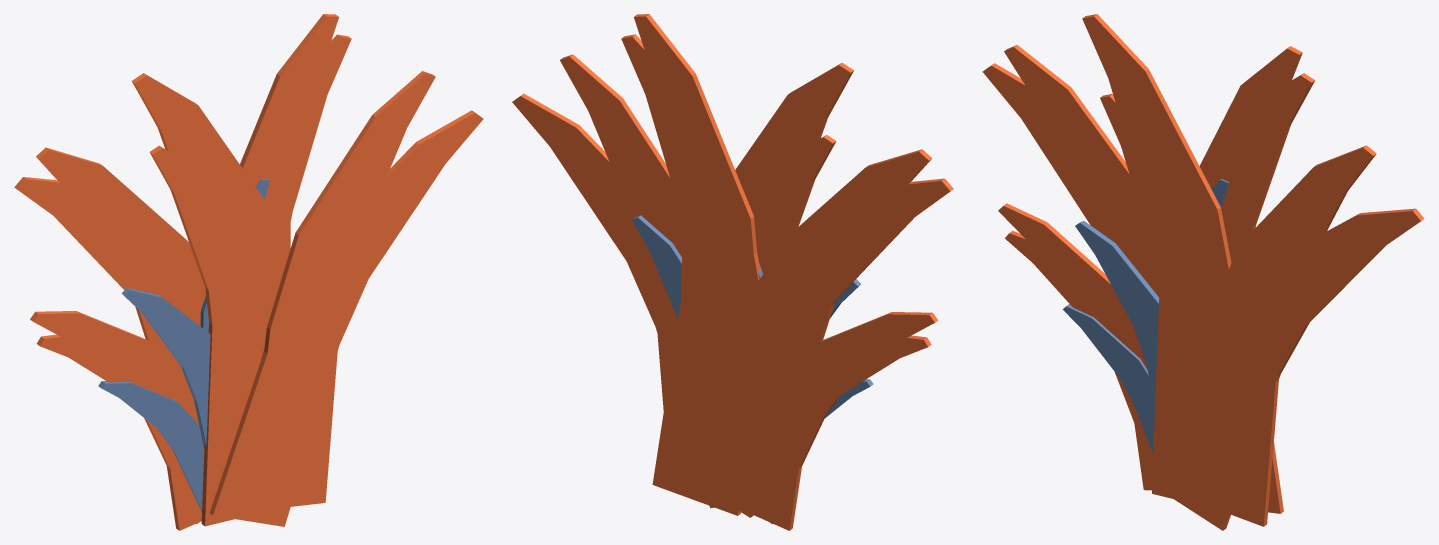
Rendered from grass_001.fbx.
3 views of the same model, side by side, from view 1: azimuth 30°, elevation 25°; view 2: azimuth 150°, elevation 25°; view 3: azimuth 330°, elevation 25° (orthographic).
Visible parts, largest first — view 1: Plane, Plane.001, Plane.002; view 2: Plane, Plane.001, Plane.002; view 3: Plane, Plane.001, Plane.002.
Boxes of the visible parts, left/top/right/bottom form: Plane: left=30, top=14, right=435, bottom=530; Plane.001: left=14, top=34, right=483, bottom=526; Plane.002: left=98, top=179, right=269, bottom=511; Plane: left=560, top=14, right=938, bottom=530; Plane.001: left=512, top=34, right=953, bottom=517; Plane.002: left=631, top=215, right=873, bottom=419; Plane: left=998, top=14, right=1376, bottom=526; Plane.001: left=982, top=63, right=1424, bottom=530; Plane.002: left=1063, top=179, right=1229, bottom=453.
Bounding box in the file's own units: 222 × 229 × 13.78.
